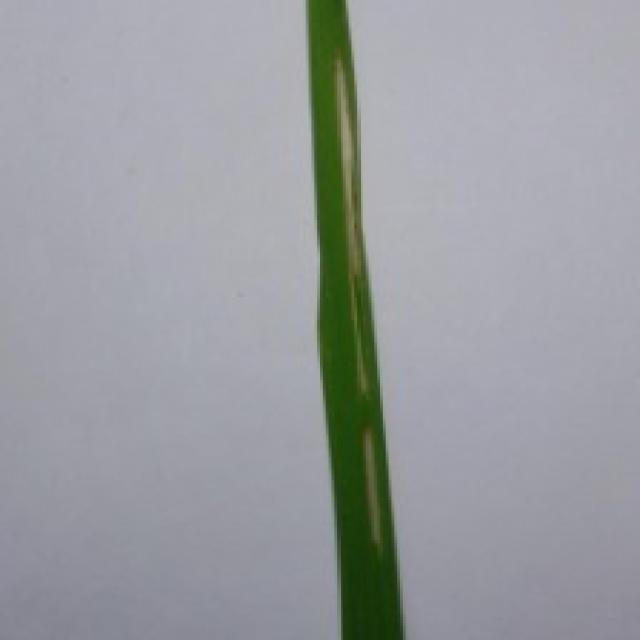Bacterial_Blight: (328, 51, 401, 392), (354, 419, 408, 560)
